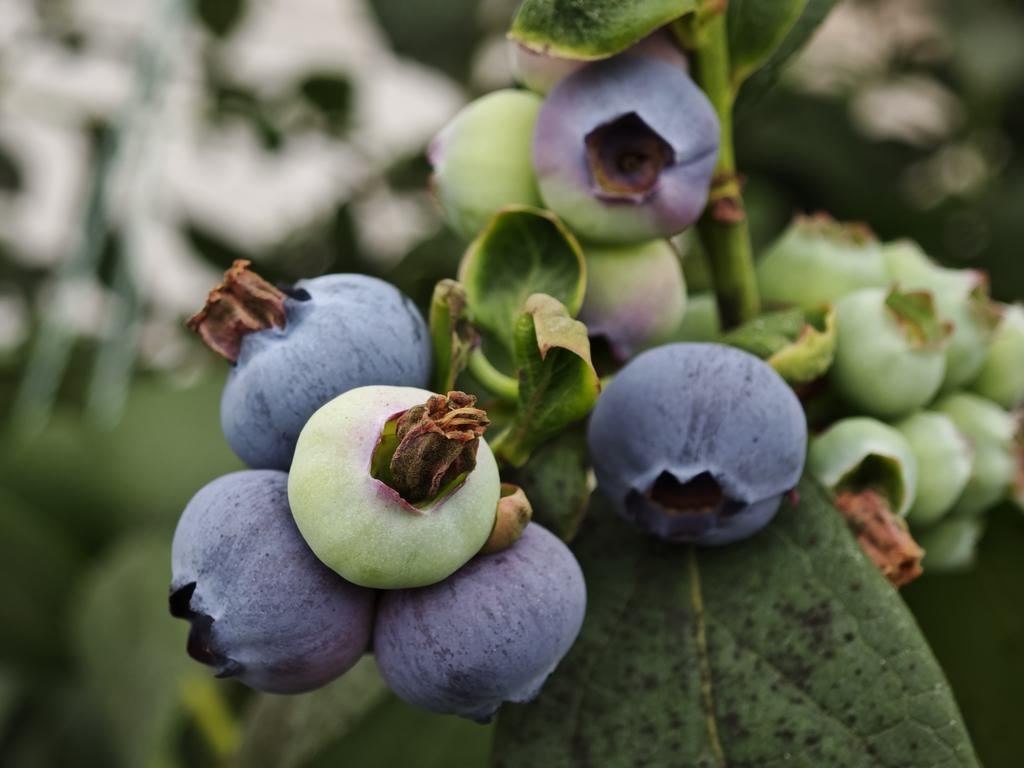RipeBlueBerry: (167, 464, 377, 700), (584, 335, 814, 548), (374, 519, 589, 730), (214, 265, 433, 466)
UnripeBlueBerry: (285, 379, 505, 592)
